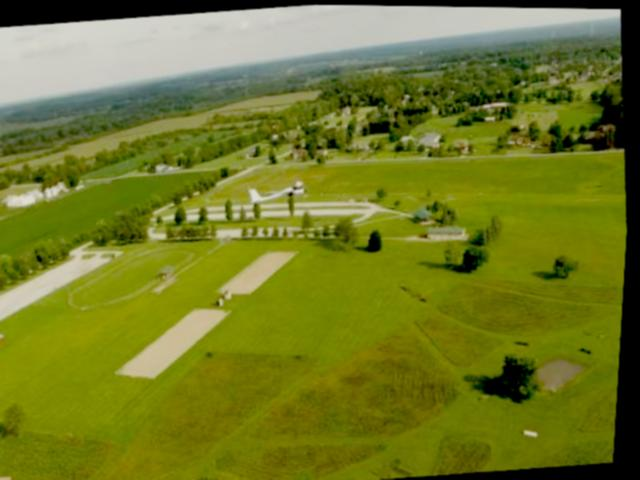uav: (243, 169, 317, 218)
